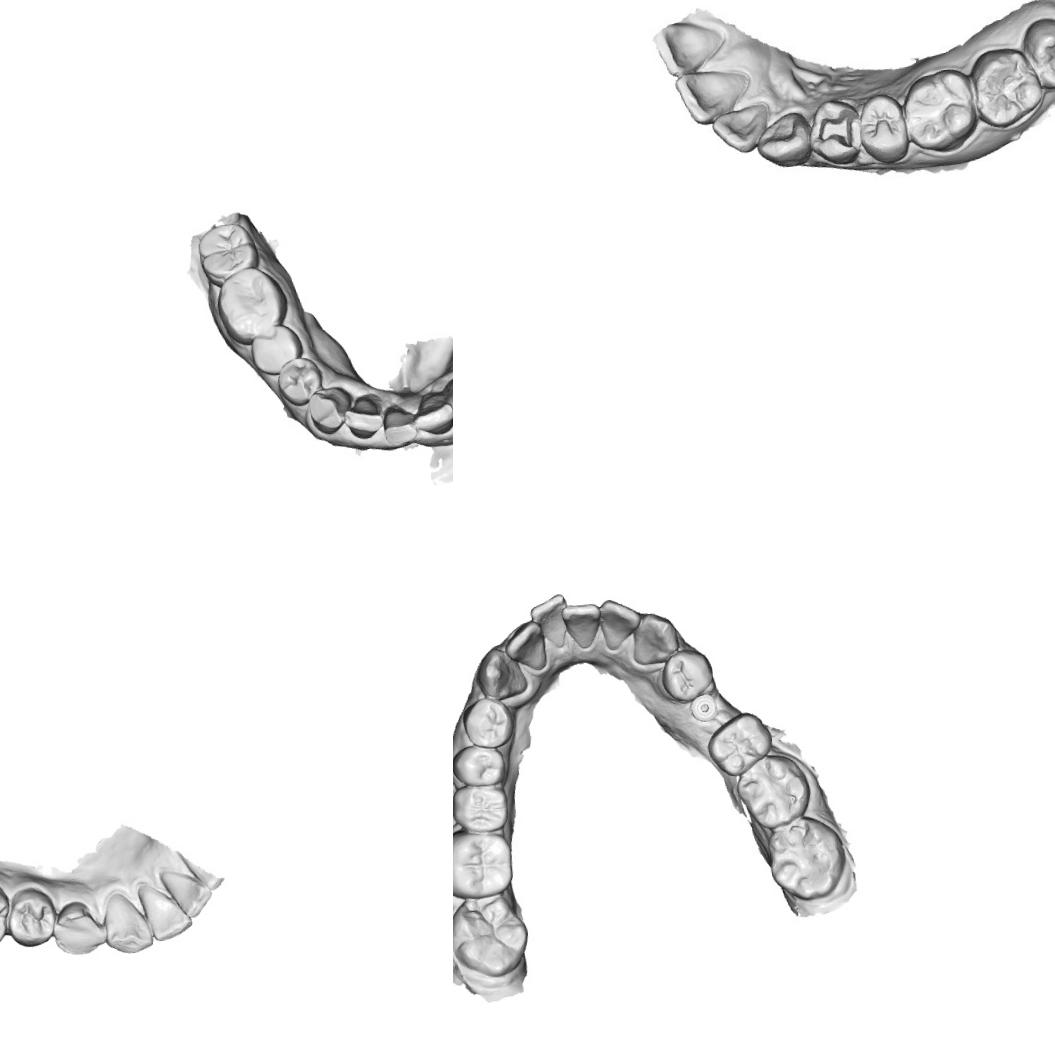canine: (99, 888, 155, 957), (758, 108, 816, 168), (473, 644, 530, 702), (628, 609, 682, 667), (306, 384, 355, 438), (441, 370, 453, 427)
implant: (688, 692, 720, 724)
incisor: (654, 16, 732, 74), (675, 66, 749, 123), (136, 878, 195, 942), (713, 100, 772, 158), (500, 618, 550, 674), (527, 592, 572, 652), (597, 595, 644, 652), (340, 393, 386, 442), (560, 600, 604, 651), (411, 391, 453, 438), (380, 402, 420, 450), (173, 877, 215, 920)
inlay: (816, 103, 864, 156)
molar: (964, 41, 1052, 132), (763, 813, 850, 905), (900, 63, 983, 157), (453, 891, 533, 983), (212, 262, 292, 348), (732, 750, 815, 832), (702, 708, 777, 780), (453, 824, 517, 903), (194, 220, 262, 290), (1015, 10, 1055, 95), (453, 781, 511, 836)
premolar: (3, 884, 60, 950), (856, 96, 909, 161), (49, 898, 106, 958), (659, 646, 716, 706), (247, 321, 306, 378), (460, 694, 518, 751), (274, 354, 326, 408), (453, 740, 508, 790)
